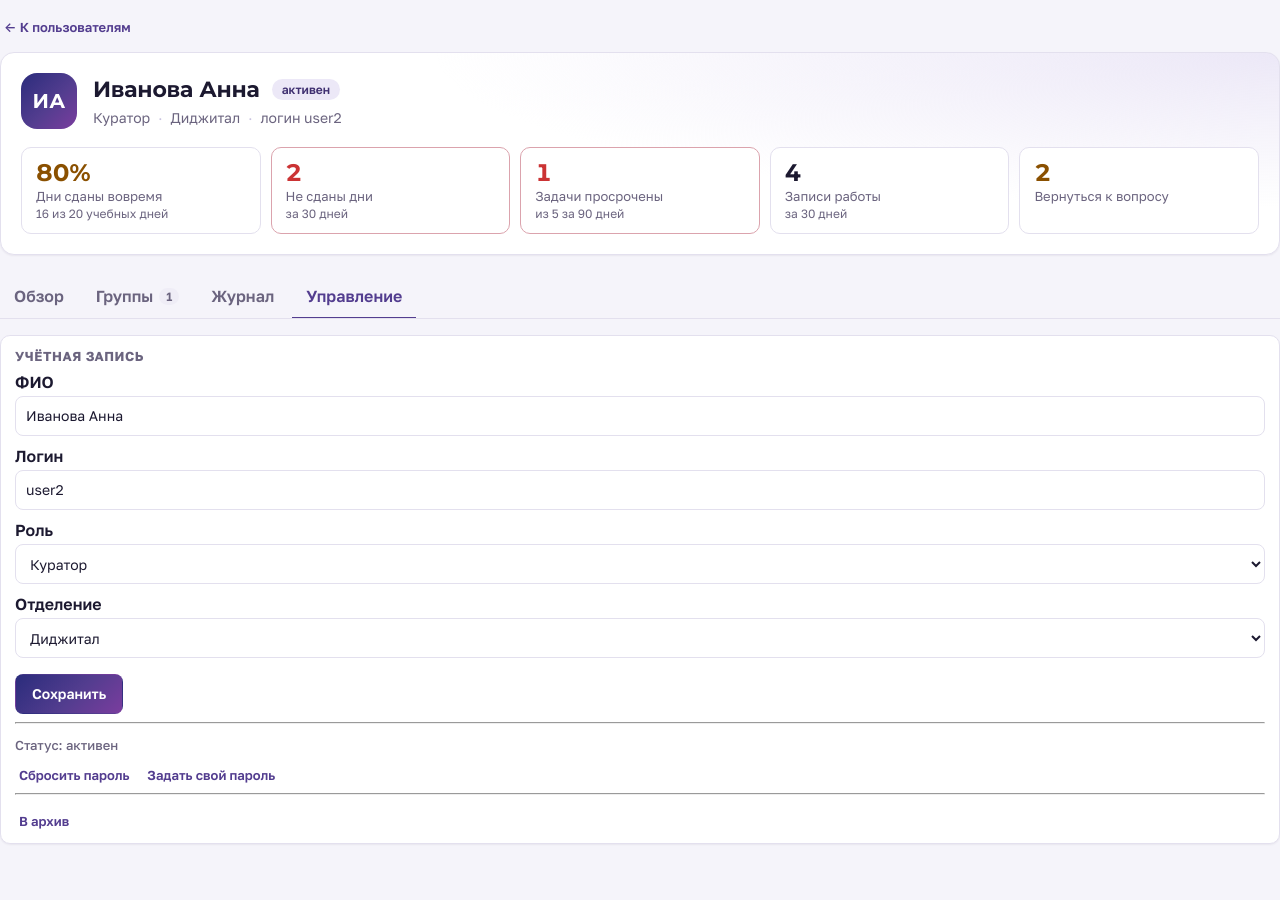
Test case: UserProfilePage — управление учётной записью › сохраняет ФИО, логин, роль и отделение
The width and height of the screenshot is (1280, 900).
Expected: the text "Учётная запись" is shown, [15, 348, 144, 364]
Replace the text in the field labelled "ФИО" with "Иванова Анна Петровна" at x=640, y=416, box [15, 396, 1265, 436]
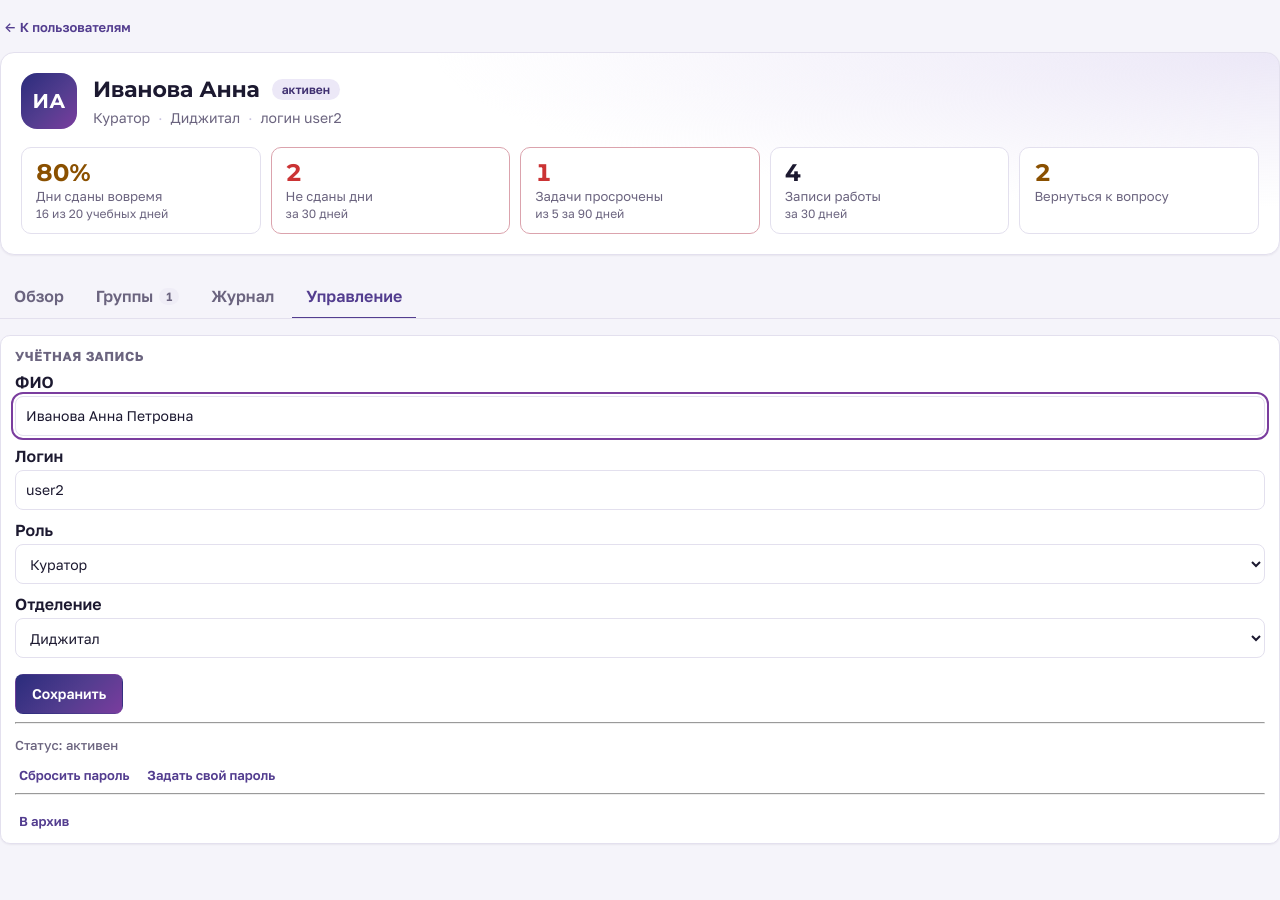
Select "Заместитель куратора" in the dropdown labelled "Роль" at x=640, y=564, box [15, 544, 1265, 584]
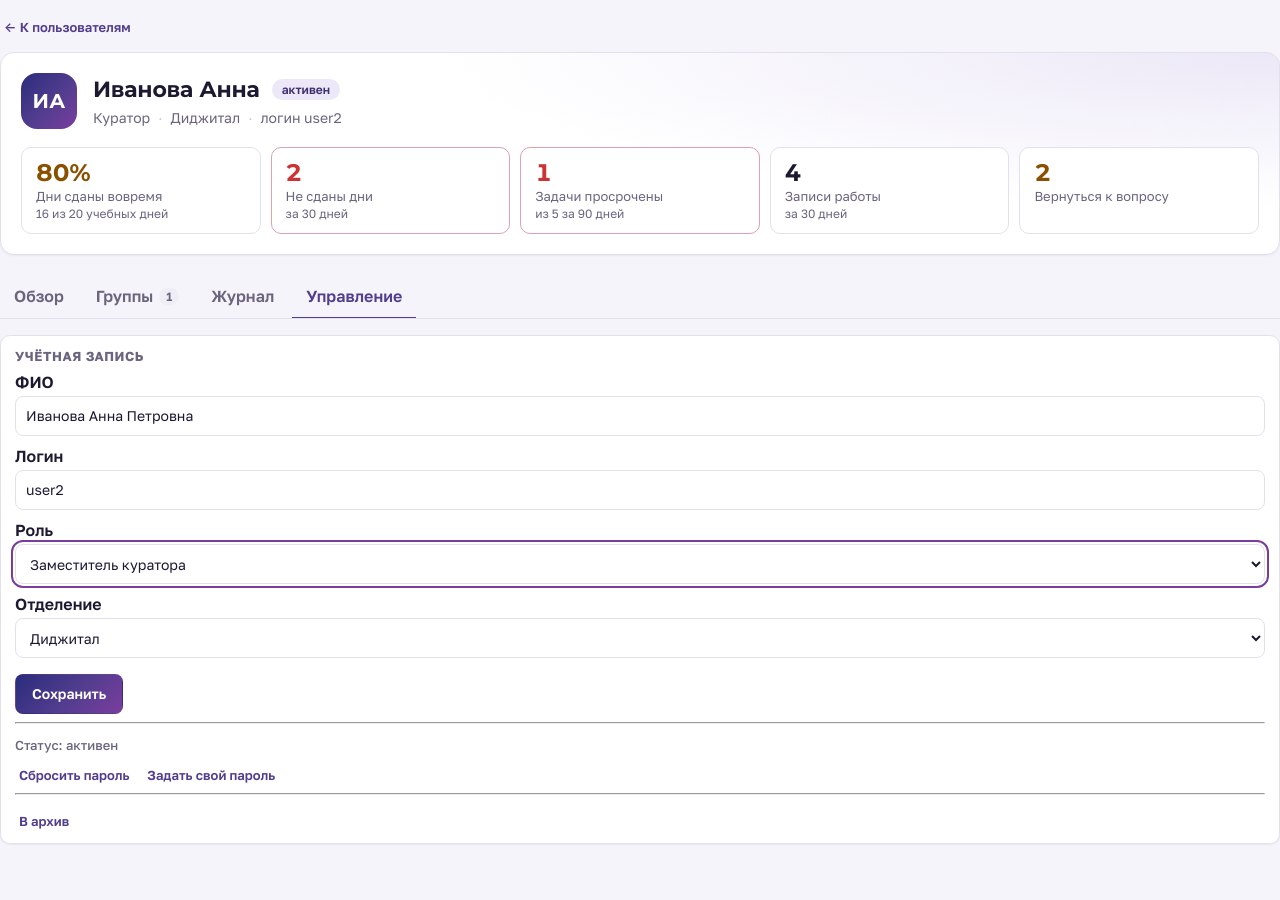
Click the button "Сохранить" at x=69, y=694, box [15, 674, 123, 714]
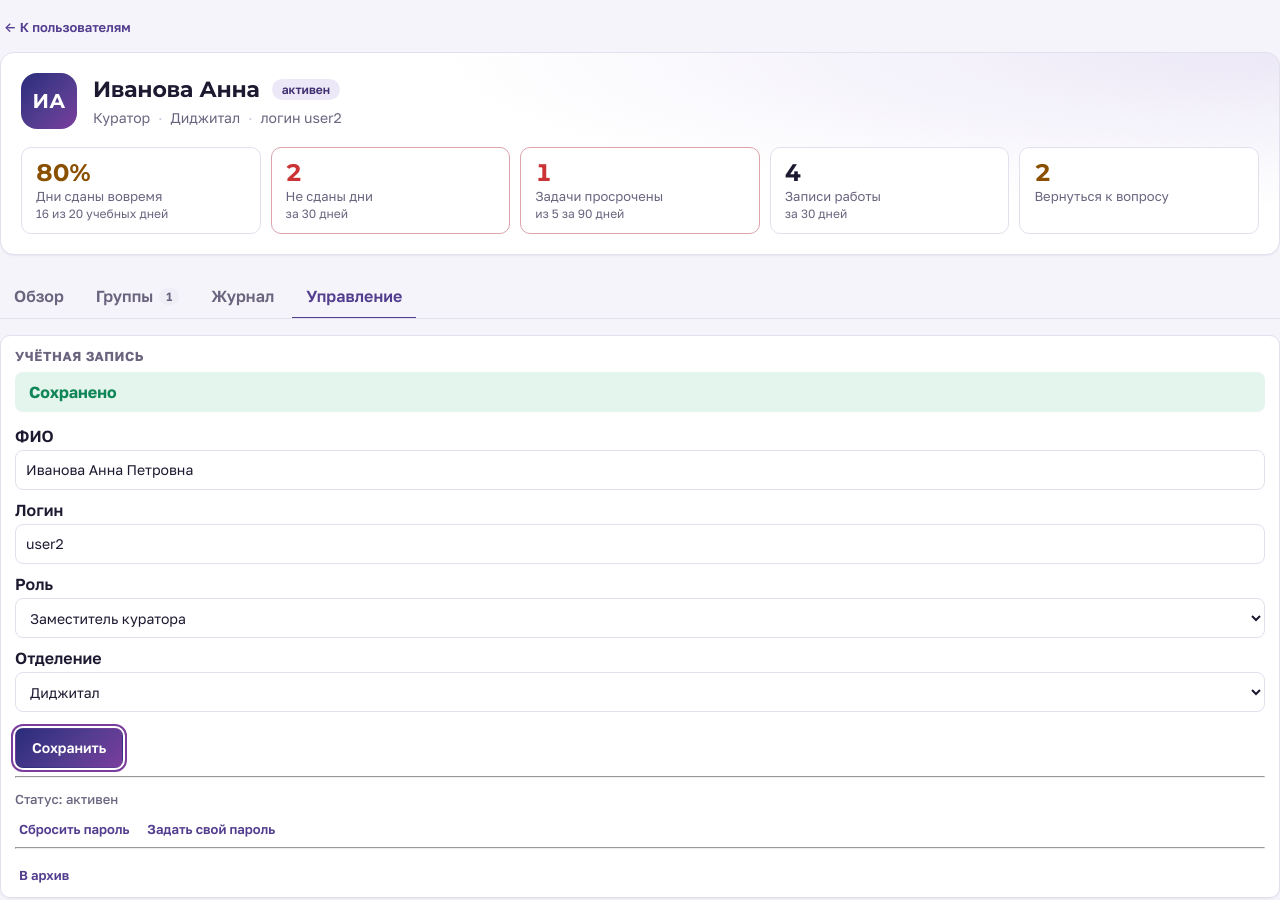
Result: the text "Сохранено" is shown at [15, 372, 1265, 412]
